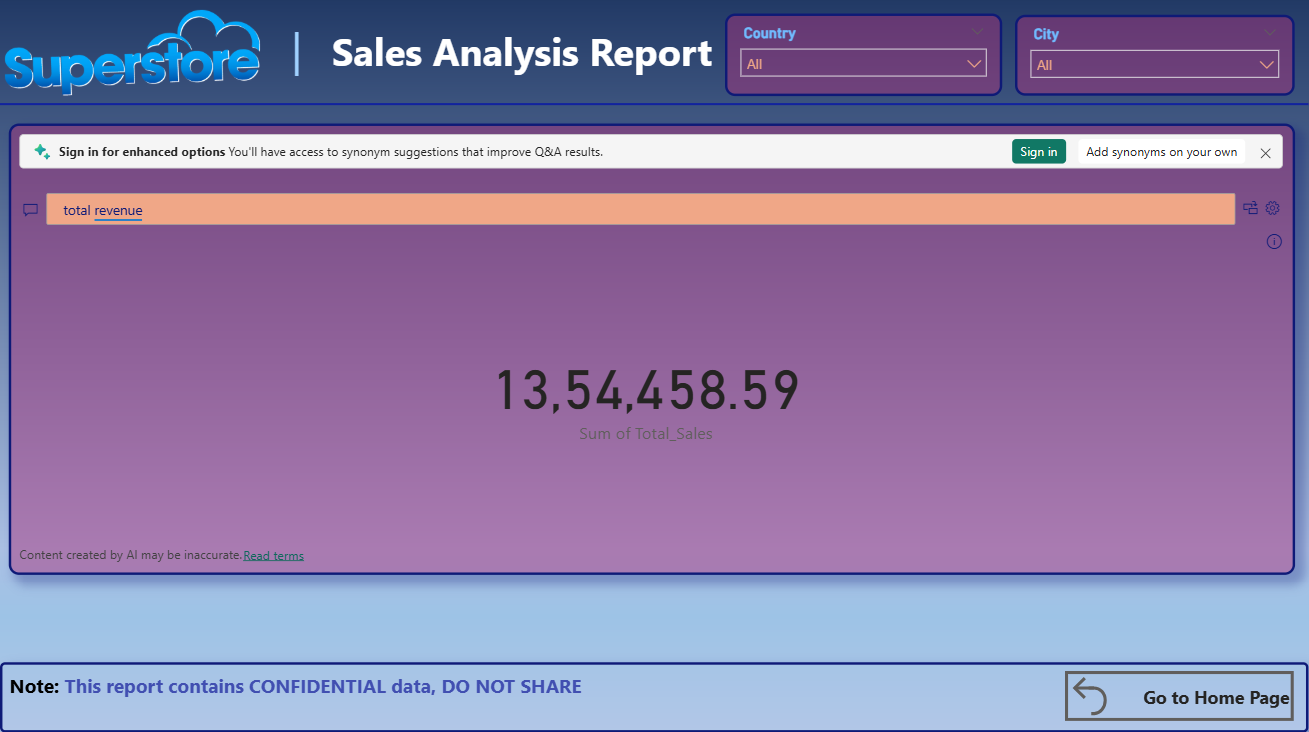

The page's visual inventory and layout, read from the dashboard file:
{"tool":"powerbi","page":{"name":"Self Serve Analysis","canvas":[1280,720],"ordinal":6},"visuals":[{"type":"image","box":[0,0,259.2,111.3],"z":0},{"type":"textbox","box":[272.7,17.1,436.6,94.2],"z":1000},{"type":"textbox","box":[0,651.8,1280.3,68.5],"z":2000},{"type":"slicer","fields":{"Values":["Customers.City"]},"box":[992.9,18.3,273.9,79.5],"z":3000},{"type":"actionButton","box":[1041.9,660.3,223.8,48.9],"z":4000},{"type":"slicer","fields":{"Values":["Customers.Country"]},"box":[709.2,17.1,271.5,80.7],"z":5000},{"type":"qnaVisual","box":[8.6,124.7,1258.3,441.4],"z":6000},{"type":"shape","box":[0,100.3,1280.3,11],"z":7000}]}

Visuals, with their boxes in screenshot pixels (x1, y1, x2, y2), scaled from the page's 1280x720 canvas onto the 1309x732 screenshot:
image: bbox=[0, 0, 265, 113]
textbox: bbox=[279, 17, 725, 113]
textbox: bbox=[0, 663, 1308, 731]
slicer - Customers.City: bbox=[1015, 19, 1296, 99]
actionButton: bbox=[1066, 671, 1294, 721]
slicer - Customers.Country: bbox=[725, 17, 1003, 99]
qnaVisual: bbox=[9, 127, 1296, 576]
shape: bbox=[0, 102, 1308, 113]
